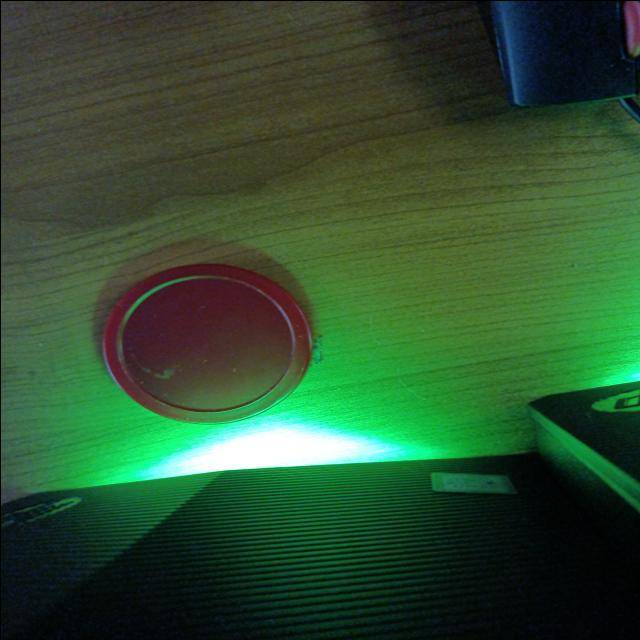chip: (100, 264, 318, 426)
